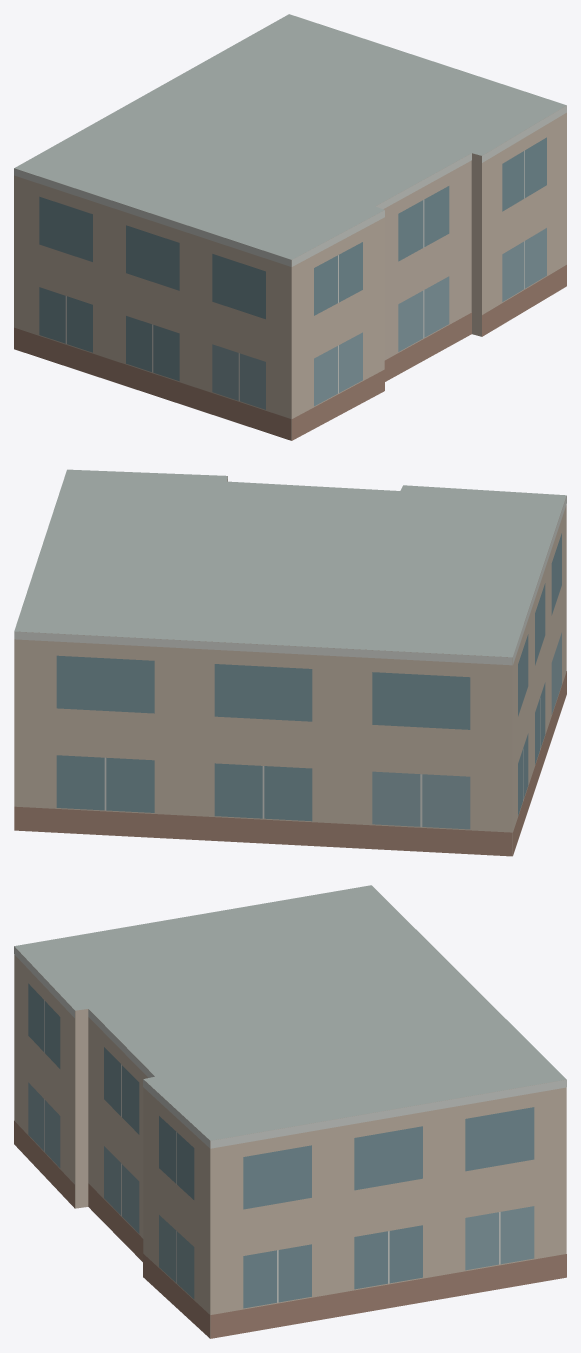
File: survey-upis-32852936.glb
3 views of the same model, one above another, from view 1: azimuth 30°, elevation 25°; view 2: azimuth 150°, elevation 25°; view 3: azimuth 270°, elevation 25° (orthographic). The views are drawn at different scales.
Visible parts, largest first — view 1: survey-upis-32852936.tmp; view 2: survey-upis-32852936.tmp; view 3: survey-upis-32852936.tmp.
Boxes of the visible parts, x1,y1,x2,y2 form: survey-upis-32852936.tmp: [14, 14, 566, 440]; survey-upis-32852936.tmp: [14, 469, 566, 856]; survey-upis-32852936.tmp: [14, 885, 566, 1338].
Size of the model in its own units: 16.91 by 6.1 by 15.44.
